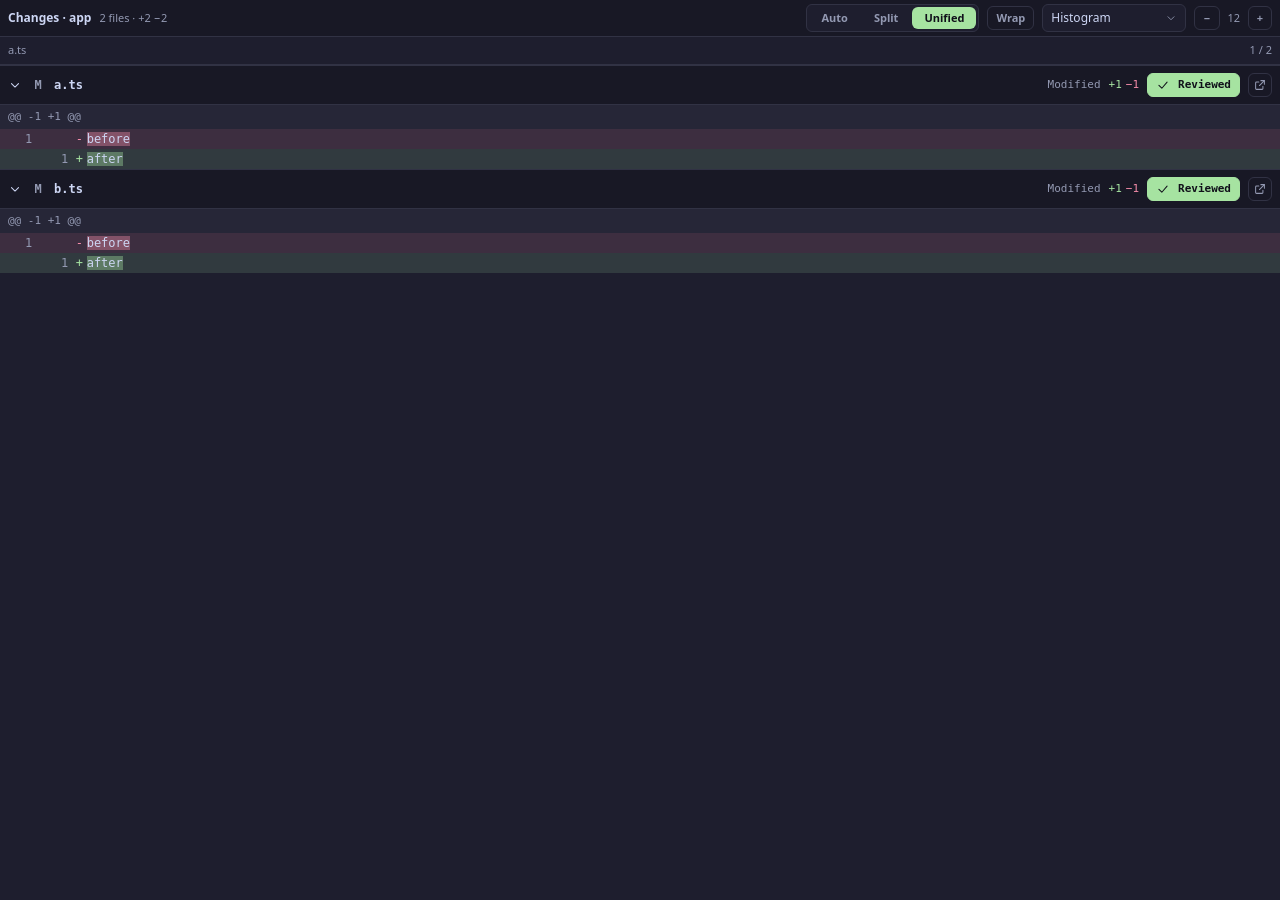
Scenario: Reviewing a file stages it and moves on › disables the button of a file whose own write is out
expect the list with test id "review-list" is shown: met, box [0,65,1279,273]
What coordinates should you click on to do the following:
click the 1st button with test id "review-file-reviewed"
I would click on:
 (1194, 85)
Its box is [1147,73,1240,97].
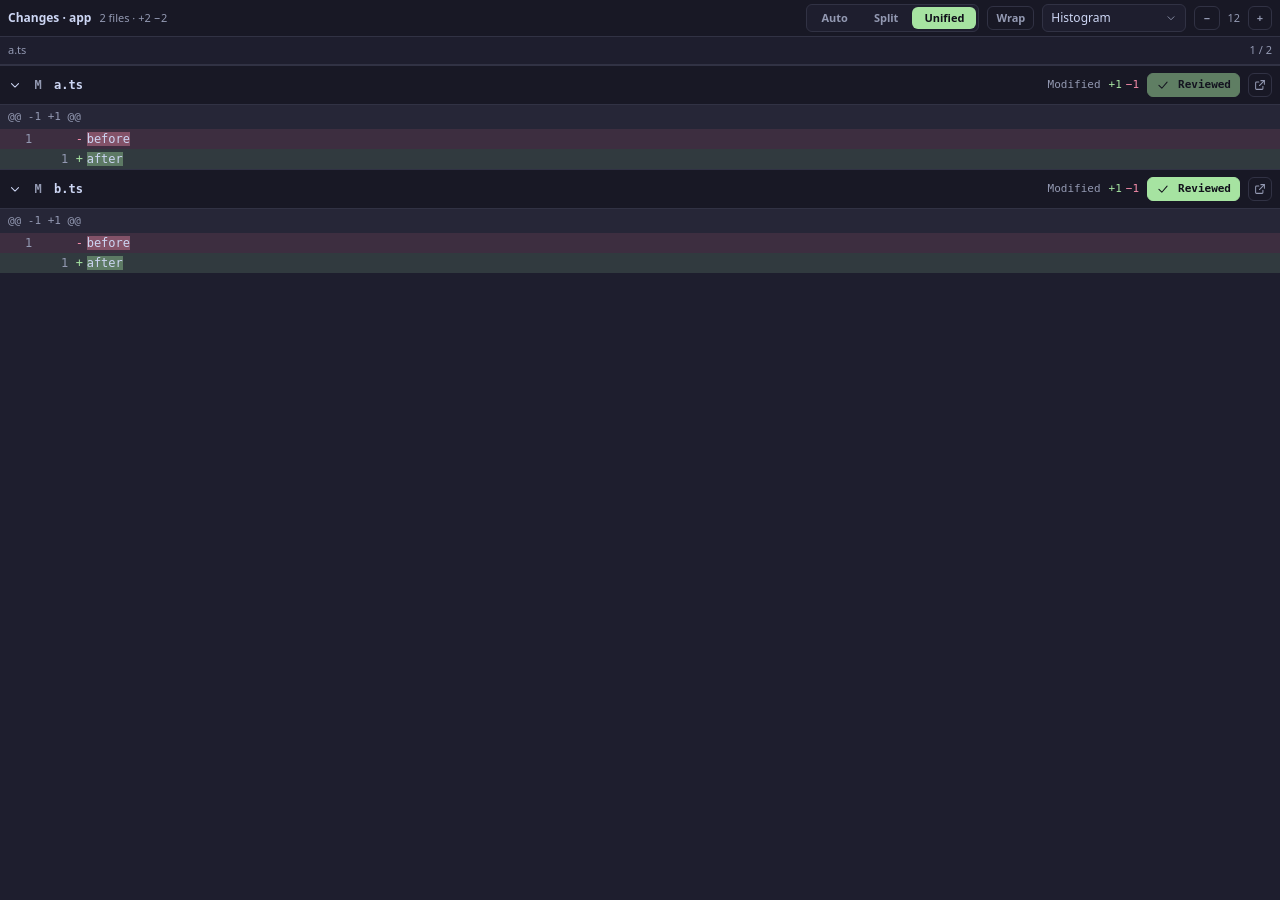
expect the 2nd button with test id "review-file-reviewed" is enabled: met, box [1147,177,1240,201]
expect the 1st button with test id "review-file-reviewed" is disabled: met, box [1147,73,1240,97]
